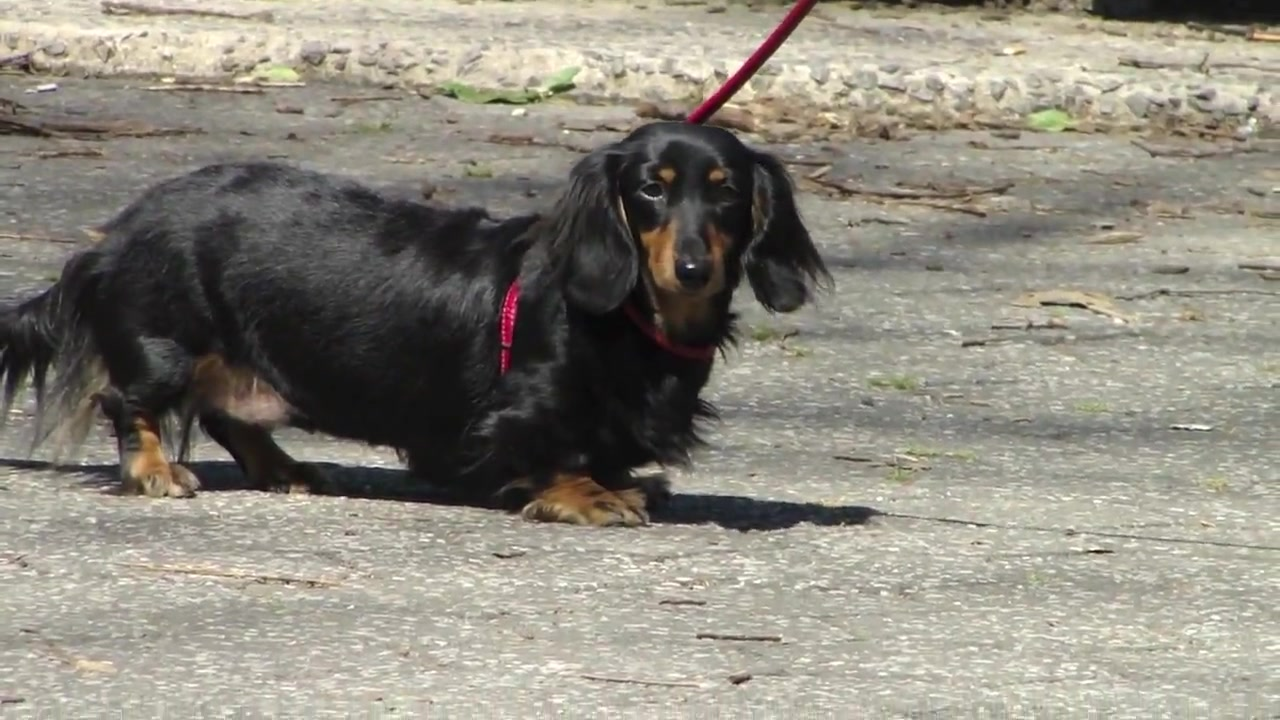dog: (1, 117, 829, 530)
